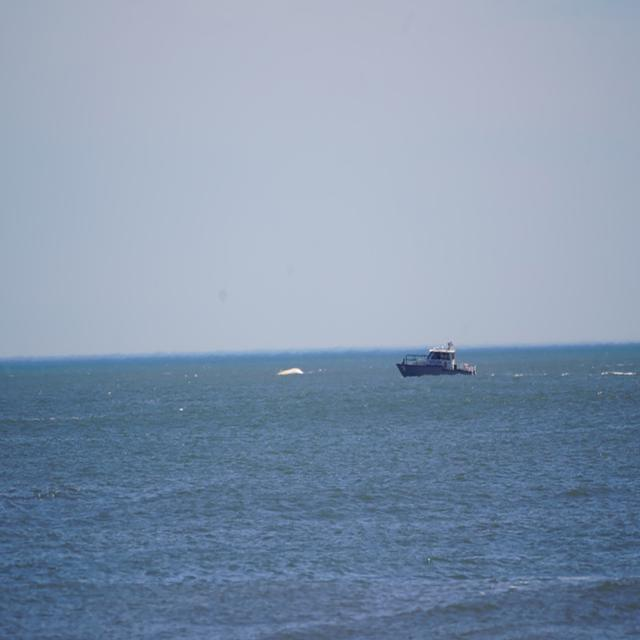houseboat: (396, 335, 475, 377)
